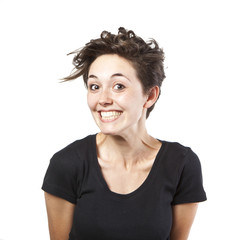teen: (72, 37, 148, 134)
